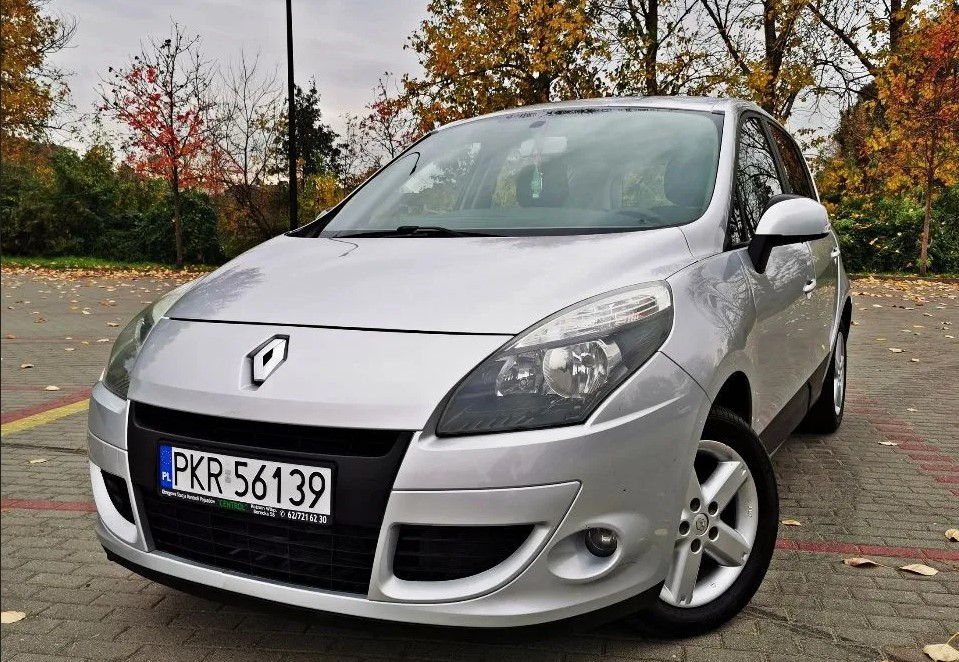number_plate: (142, 435, 355, 536)
